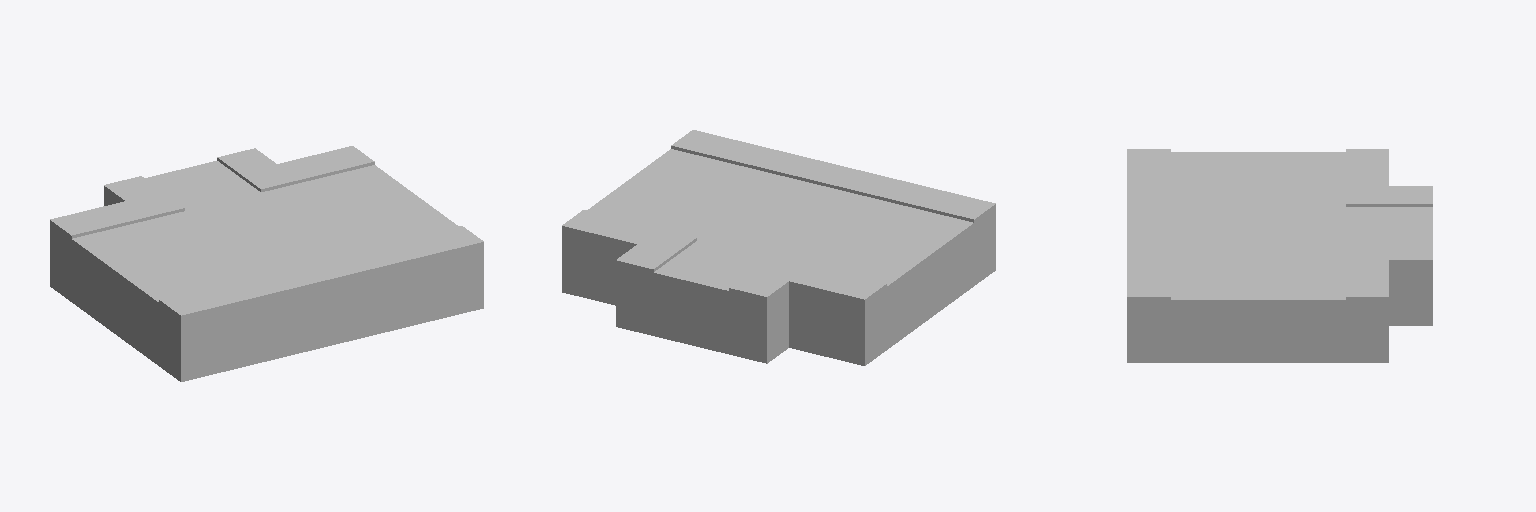
File: tile164.obj
The picture shows the model from 3 angles: view 1: azimuth 30°, elevation 25°; view 2: azimuth 150°, elevation 25°; view 3: azimuth 270°, elevation 25°; orthographic projection.
Parts seen in each view (by area): view 1: tile164; view 2: tile164; view 3: tile164.
Part boxes in pixels (x1,y1,x2,y2): tile164: (50,146,483,381); tile164: (562,130,995,365); tile164: (1127,149,1432,362).
Size of the model in its own units: 1 by 0.21 by 0.875.